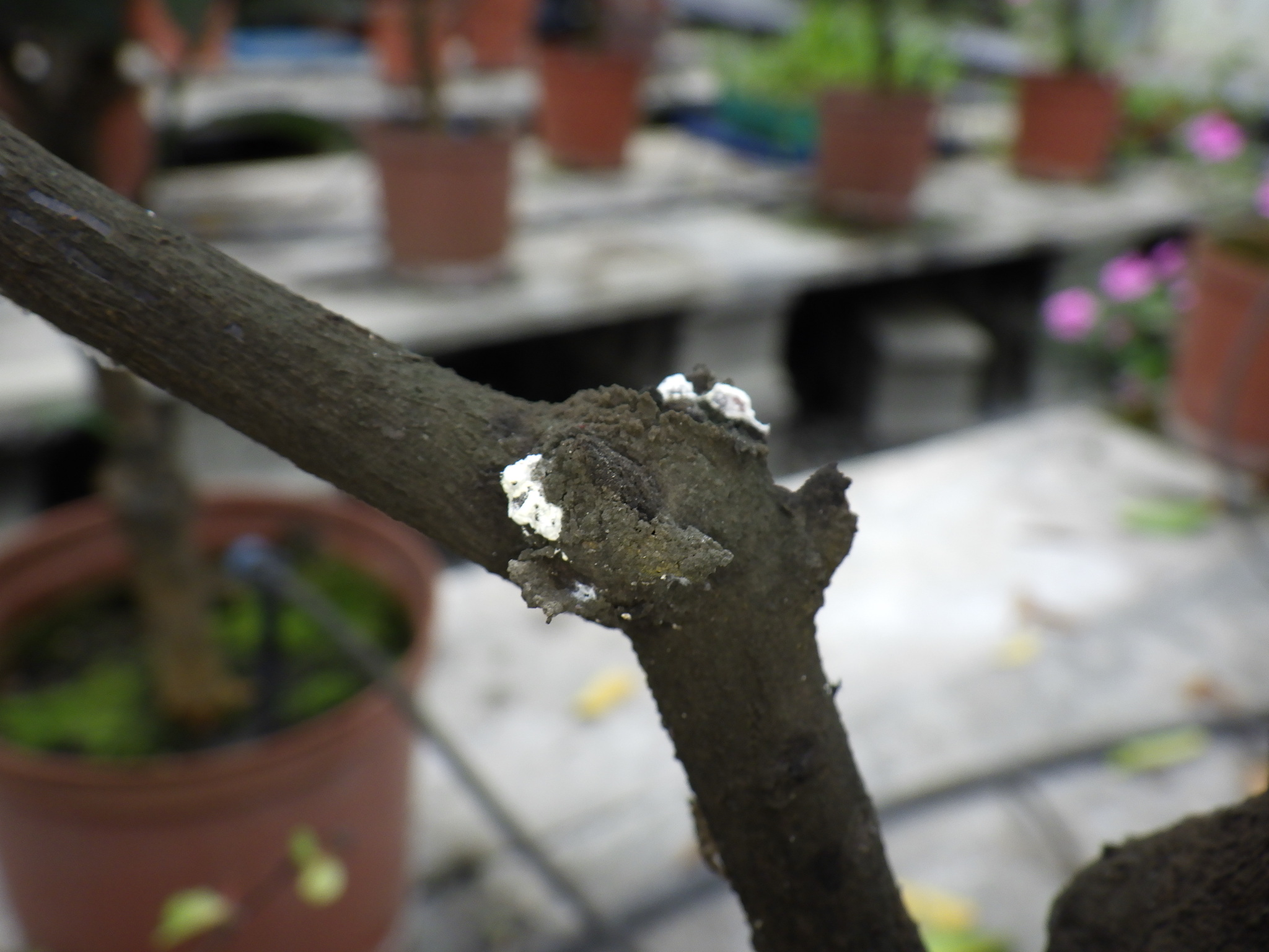Scale_Insect: (657, 373, 768, 435), (501, 454, 562, 540)
